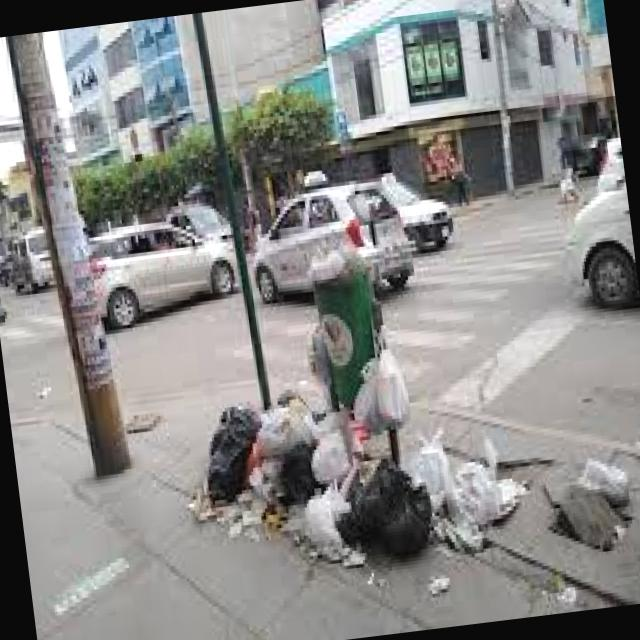garbage: (176, 234, 524, 576)
